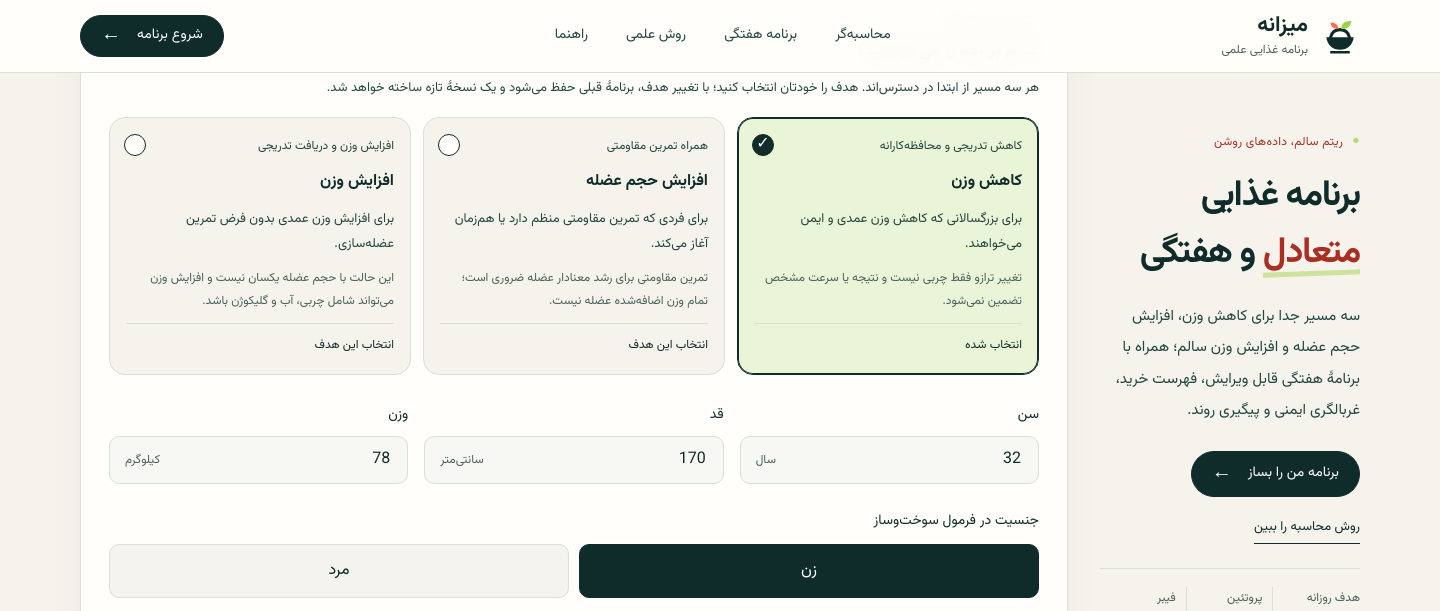
Test: step navigation & validation › blocks advancing past step 1 with the existing hard gate for out-of-range age
(page scrolled)
Replace the text in the number field named "سن به سال" with "10" at (900, 460), box [776,437,1023,483]
(page scrolled)
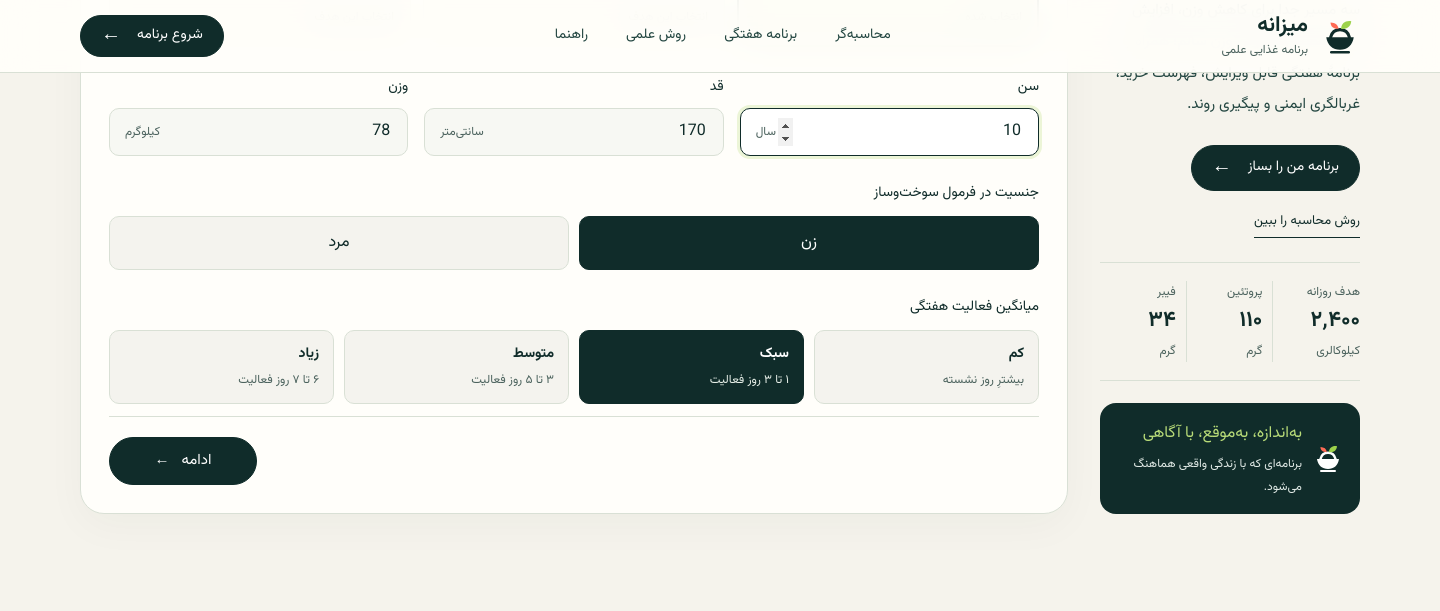
Click the button "ادامه ←" at (183, 461), box [109,437,257,485]
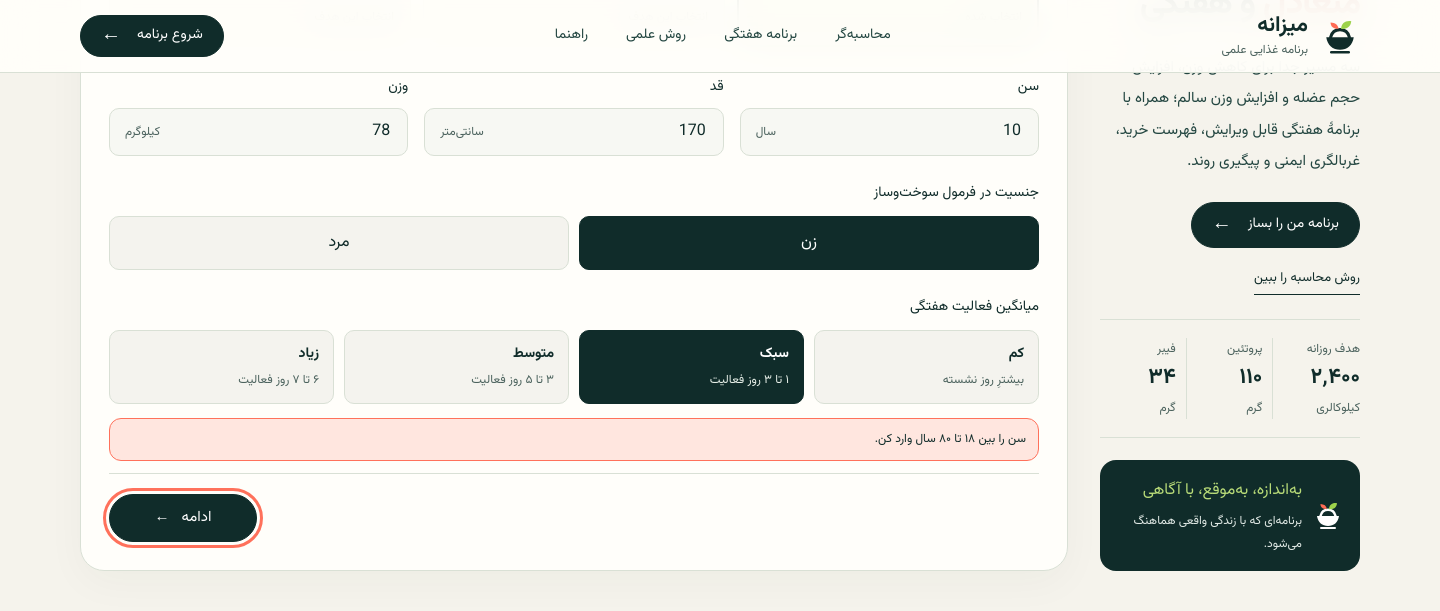
Check: the message reads "سن را بین ۱۸ تا ۸۰ سال وارد کن.", box [875,430,1026,448]
